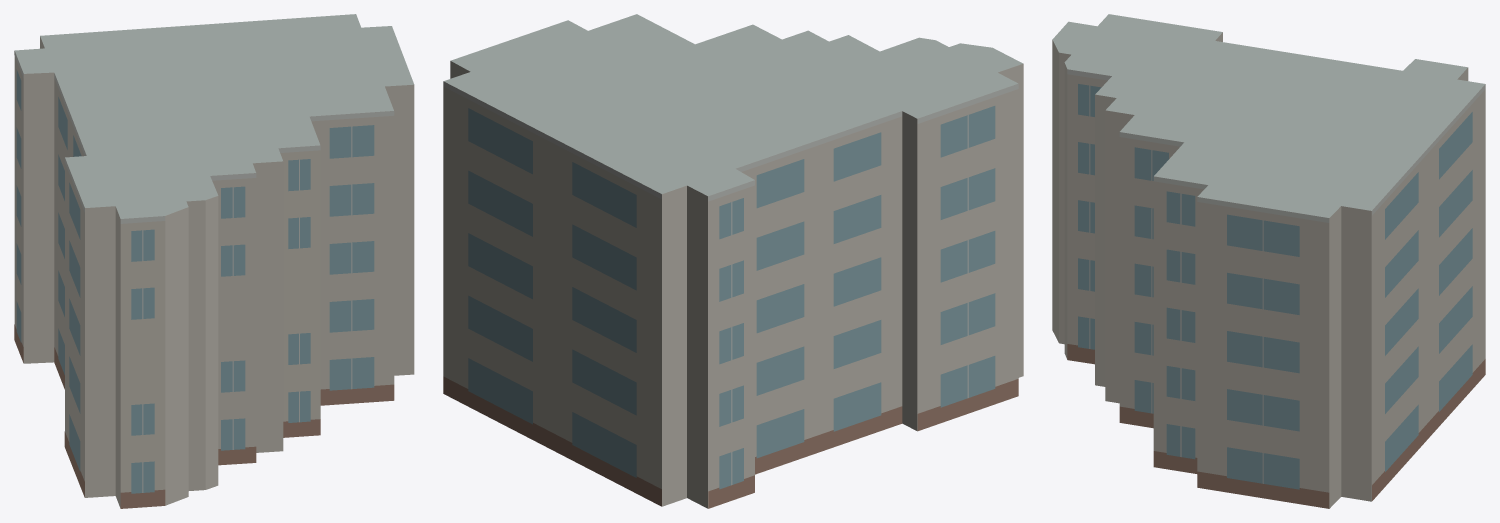
The model's file is survey-upis-32656482.glb.
3 renders of one model, left to right at view 1: azimuth 30°, elevation 25°; view 2: azimuth 150°, elevation 25°; view 3: azimuth 270°, elevation 25°, orthographic. The views are drawn at different scales.
Parts seen in each view (by area): view 1: survey-upis-32656482.tmp; view 2: survey-upis-32656482.tmp; view 3: survey-upis-32656482.tmp.
Boxes of the visible parts, left/top/right/bottom form: survey-upis-32656482.tmp: left=14, top=14, right=414, bottom=508; survey-upis-32656482.tmp: left=443, top=14, right=1023, bottom=508; survey-upis-32656482.tmp: left=1052, top=14, right=1485, bottom=508.
Bounding box in the file's own units: 21.61 × 14.35 × 19.39.
